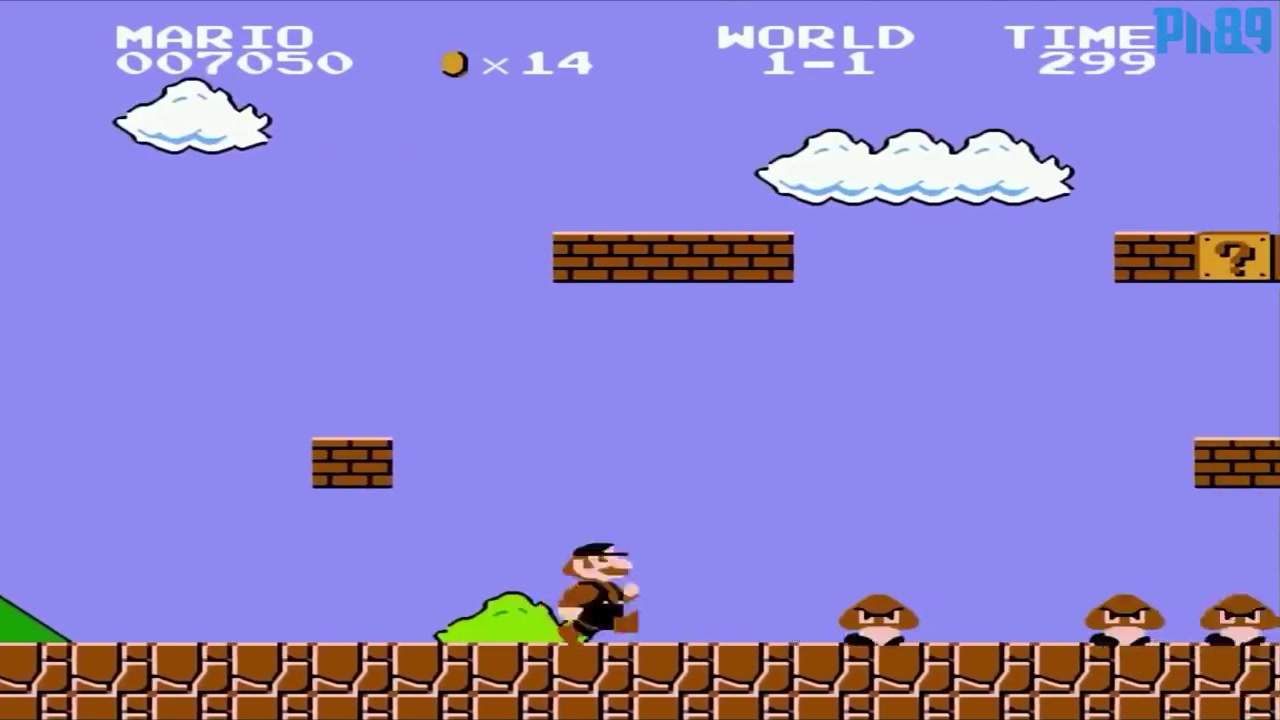mario: (550, 534, 647, 647)
